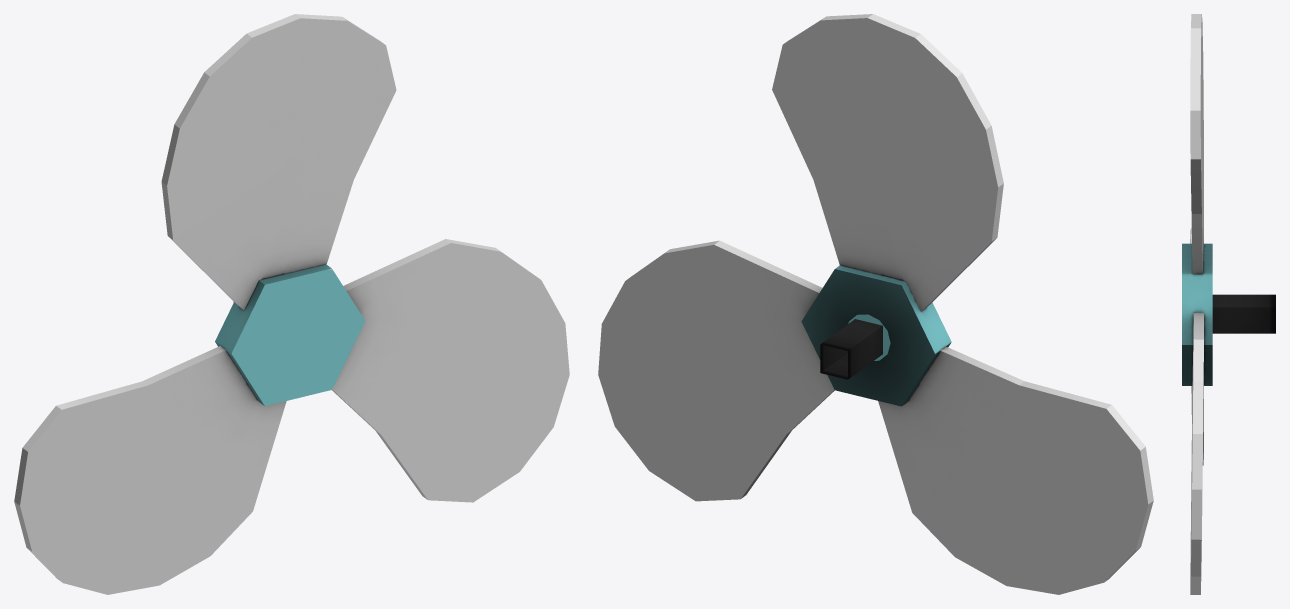
The model's file is FanBlade.fbx.
The picture shows the model from 3 angles, left to right: view 1: azimuth 30°, elevation 25°; view 2: azimuth 150°, elevation 25°; view 3: azimuth 270°, elevation 25°; orthographic projection. The views are drawn at different scales.
Parts seen in each view (by area): view 1: FanBlade; view 2: FanBlade; view 3: FanBlade.
Part boxes in pixels (x1=…): FanBlade: x1=14, y1=14, x2=569, y2=594; FanBlade: x1=598, y1=14, x2=1153, y2=594; FanBlade: x1=1182, y1=14, x2=1275, y2=594.
Size of the model in its own units: 80.8 by 74.9 by 12.92.
